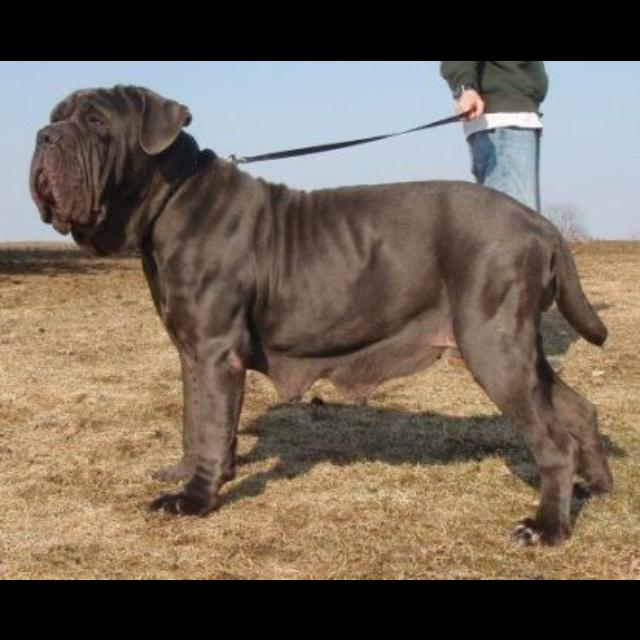mastino_napoletano: (30, 83, 615, 548)
